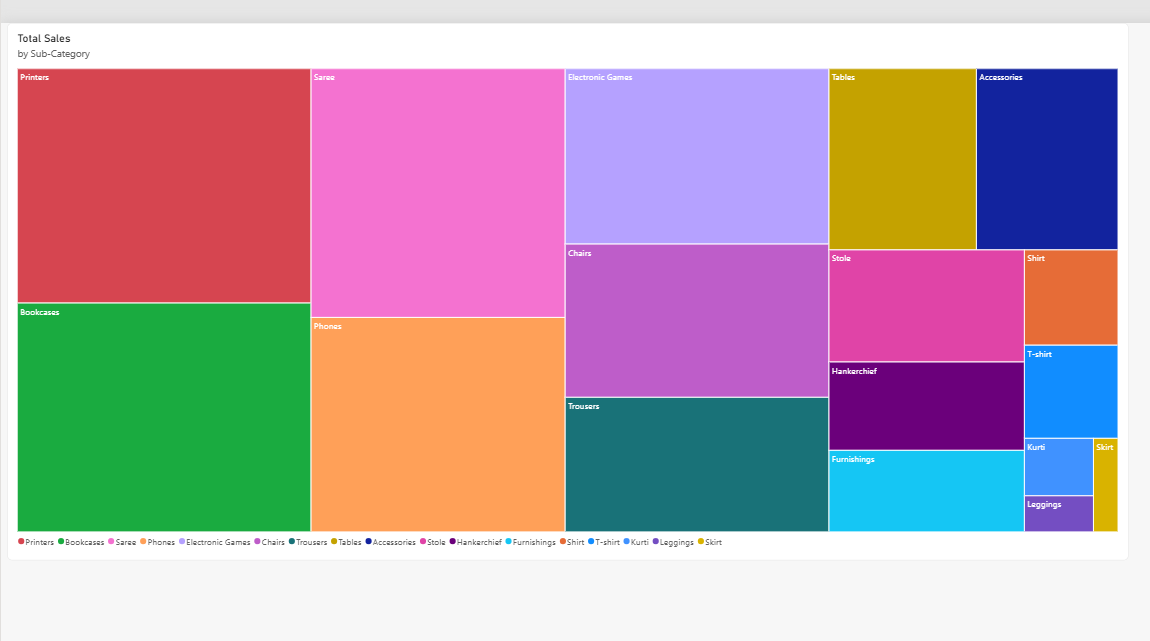

This screenshot's page, from the dashboard's own definition file:
{"tool":"powerbi","page":{"name":"Tree Map","canvas":[1920,1080],"ordinal":5},"visuals":[{"type":"treemap","fields":{"Group":["Order Details.Sub-Category"],"Values":["Order Details.Total Sales"]},"box":[10.3,0,1846.3,885.1],"z":0}]}

Visuals, with their boxes on the page's 1920x1080 design canvas (x1, y1, x2, y2). These are canvas units, not pixel positions in the 1150x641 screenshot, which may show the page scaled, cropped or inside an application window:
treemap - Order Details.Sub-Category x Order Details.Total Sales: Rect(10, 0, 1857, 885)
